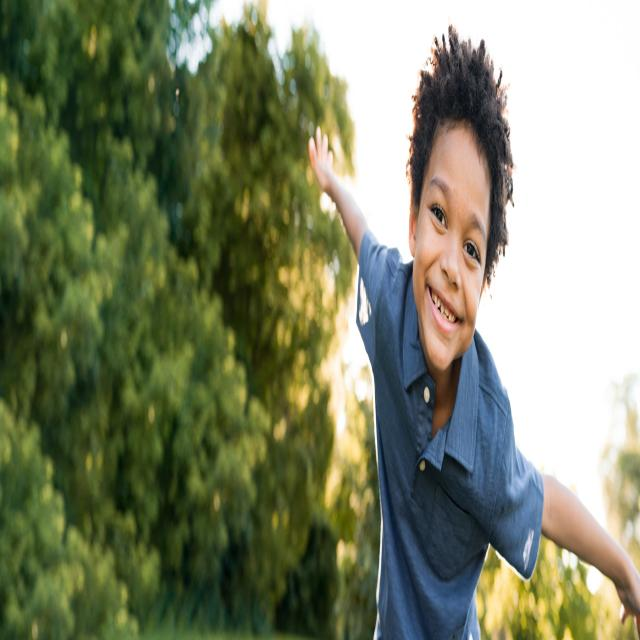child: (306, 30, 640, 640)
